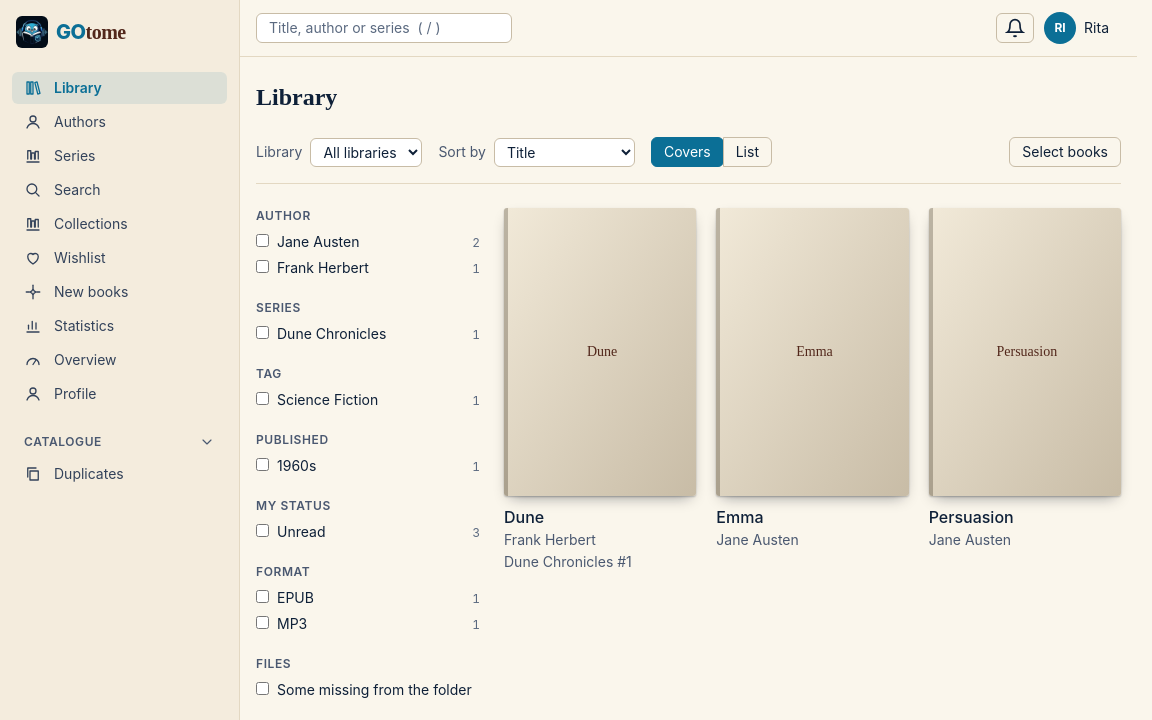
Scenario: books › sorts, and lists instead of showing covers
The image size is (1152, 720).
Select "Author" in the dropdown labelled "Sort by" at coordinates (564, 152), box [494,138,635,166]
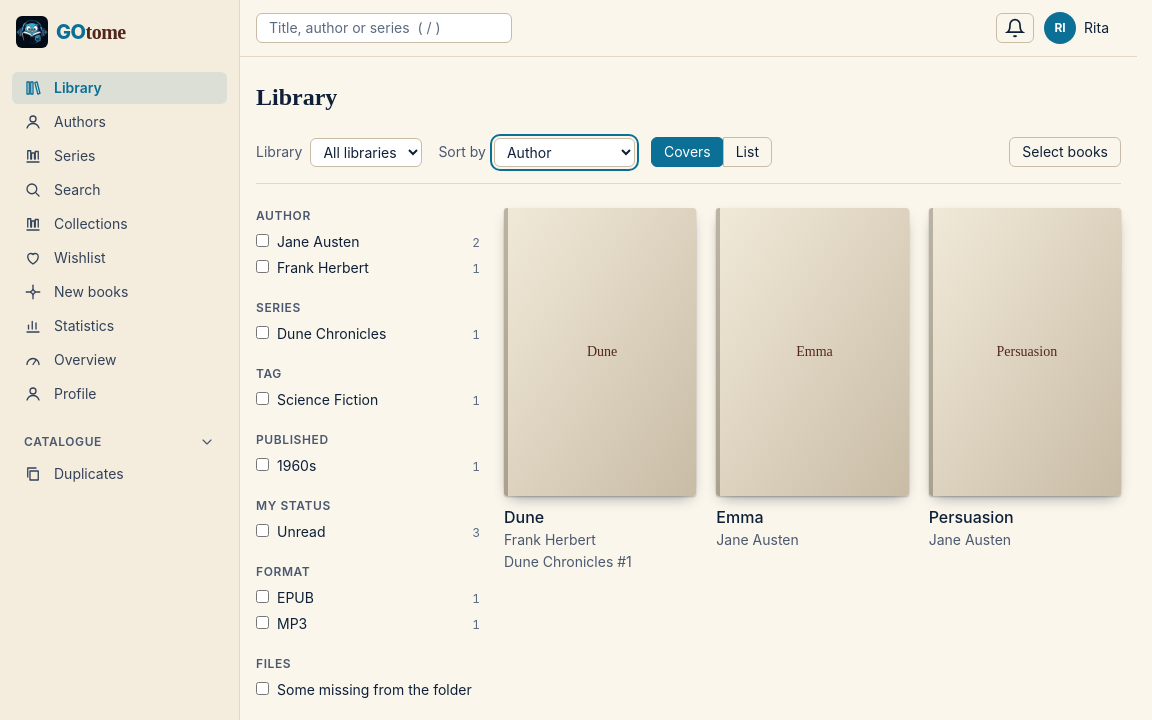
Select "Recently added" in the dropdown labelled "Sort by" at coordinates (564, 152), box [494,138,635,166]
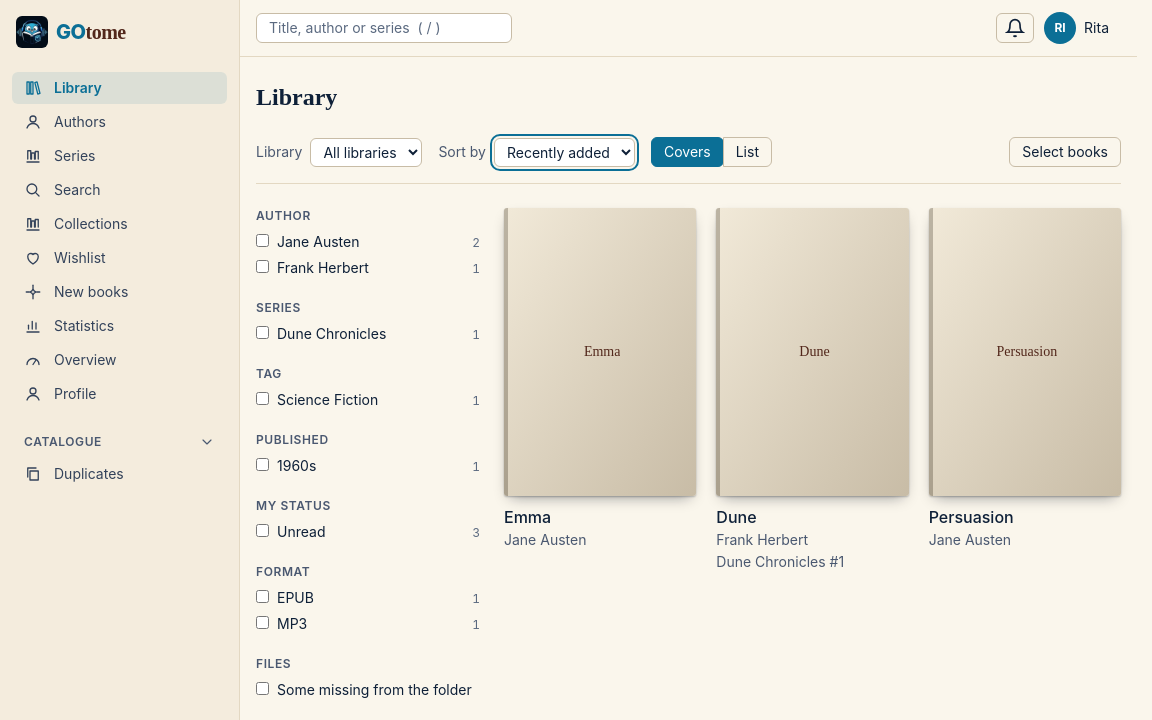
Click the button "List" at coordinates (747, 152), box [723,137,772,167]
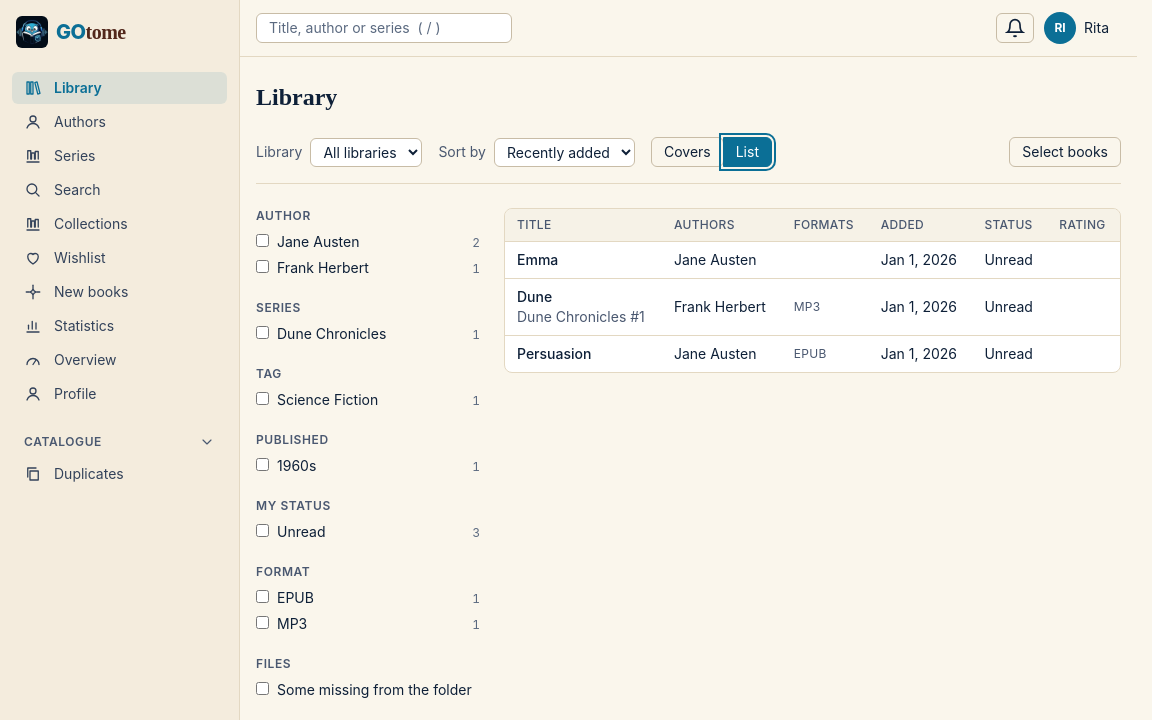
Expected: the row "Emma Jane Austen Jan 1, 2026 Unread" is shown, [505,242,1120,278]
Expected: the row "Dune Dune Chronicles #1 Frank Herbert mp3 Jan 1, 2026 Unread" is shown, [505,278,1120,336]
